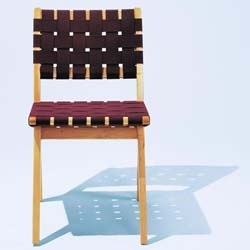obstacle: (28, 8, 149, 244)
